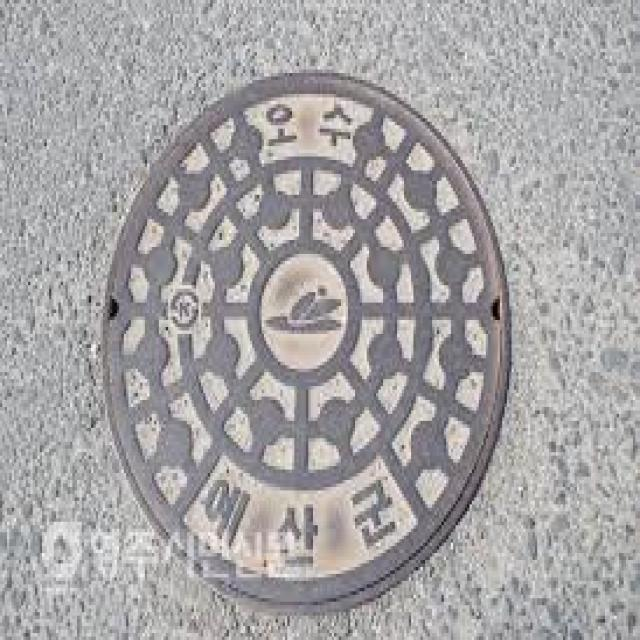Sewer Cover: (97, 79, 534, 615)
